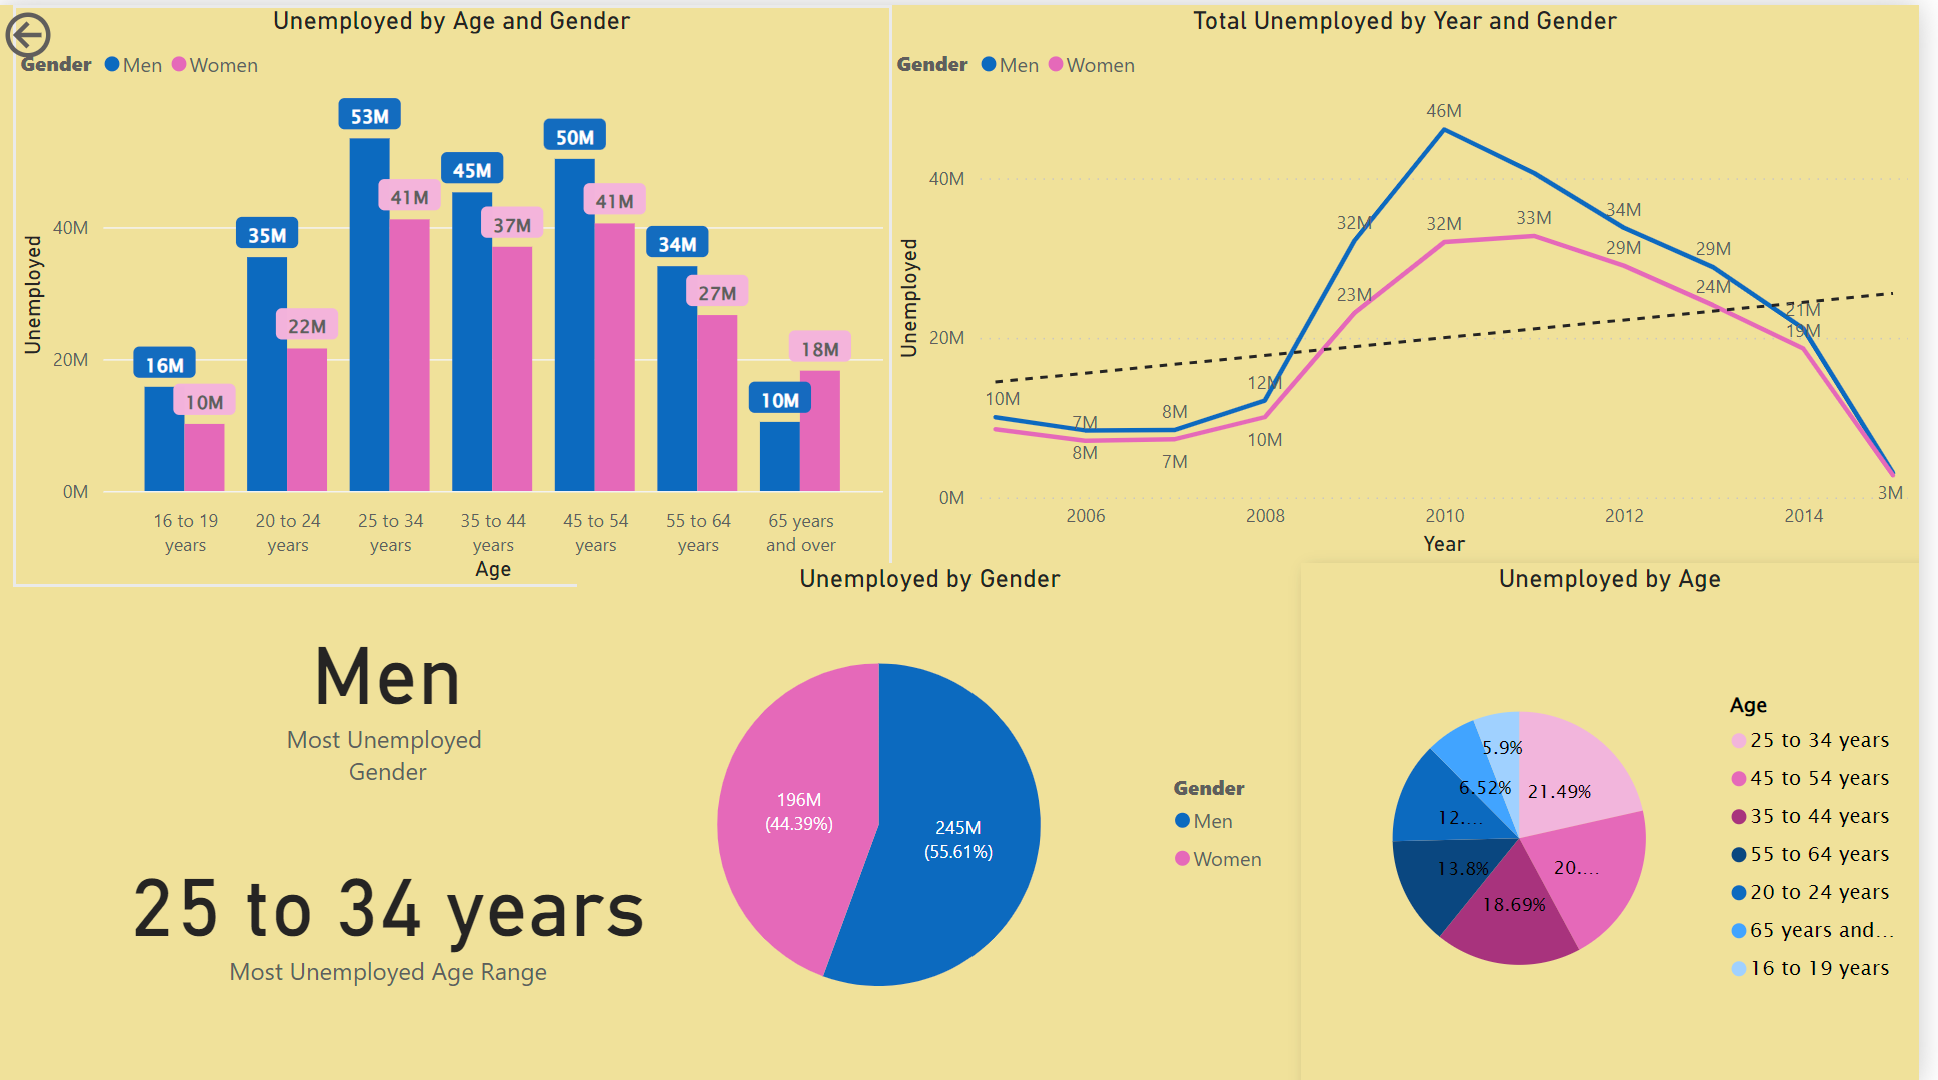

Layout of this report page (visuals, bound fields, positions):
{"tool":"powerbi","page":{"name":"Page 1","canvas":[1280,720],"ordinal":0},"visuals":[{"type":"clusteredColumnChart","fields":{"Category":["Data.Age"],"Y":["Sum(Data.Unemployed)"],"Series":["Data.Gender"]},"box":[10,0,585,388.3],"z":0},{"type":"actionButton","box":[0,0,100,40],"z":1000},{"type":"pieChart","fields":{"Category":["Data.Gender"],"Y":["Sum(Data.Unemployed)"]},"box":[386.7,371.7,470,330],"z":2000},{"type":"pieChart","fields":{"Category":["Data.Age"],"Y":["Sum(Data.Unemployed)"]},"box":[868,372,412,348],"z":3000},{"type":"lineChart","title":"Total Unemployed by Year and Gender","fields":{"Category":["Data.Year"],"Series":["Data.Gender"],"Y":["Sum(Data.Unemployed)"]},"box":[593.3,0,686.7,371.7],"z":4000},{"type":"card","fields":{"Values":["Min(Data.Age)"]},"box":[0,546.7,520,118.3],"z":4001},{"type":"card","fields":{"Values":["Min(Data.Gender)"]},"box":[178.3,353.3,163.3,193.3],"z":4002},{"type":"textbox","box":[10,676,130,44],"z":4003}]}

Visuals, with their boxes in screenshot pixels (x1, y1, x2, y2), scaled from the page's 1280x720 canvas onto the 1938x1080 screenshot:
clusteredColumnChart - Data.Age x Sum(Data.Unemployed): 15,0,901,582
actionButton: 0,0,151,60
pieChart - Data.Gender x Sum(Data.Unemployed): 585,558,1297,1053
pieChart - Data.Age x Sum(Data.Unemployed): 1314,558,1937,1079
"Total Unemployed by Year and Gender" lineChart: 898,0,1937,558
card - Min(Data.Age): 0,820,787,998
card - Min(Data.Gender): 270,530,517,820
textbox: 15,1014,212,1079
